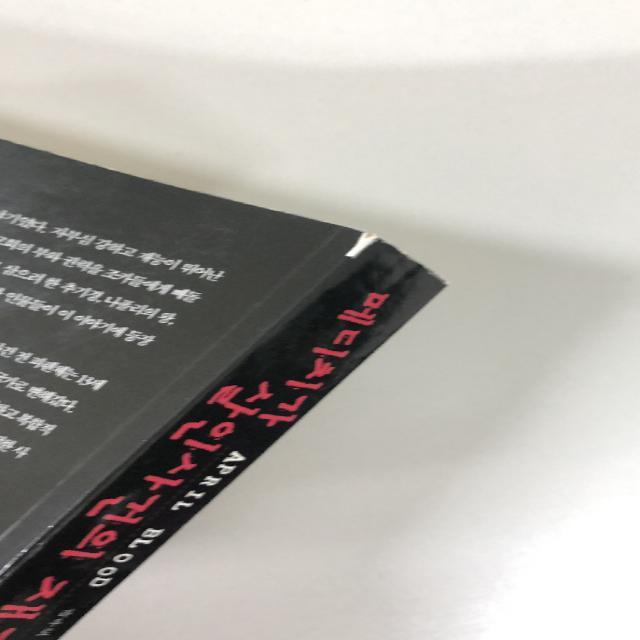Ripped: (341, 218, 389, 264)
Wornout: (390, 242, 456, 291)
